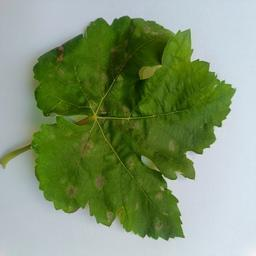Powdery-Mildew: (88, 66, 111, 117), (121, 106, 151, 140), (152, 190, 175, 232), (166, 35, 189, 67), (74, 132, 100, 160), (129, 18, 165, 36), (54, 48, 72, 77), (198, 79, 218, 104), (63, 181, 85, 203), (103, 204, 127, 223), (124, 147, 140, 171), (166, 133, 185, 153)
